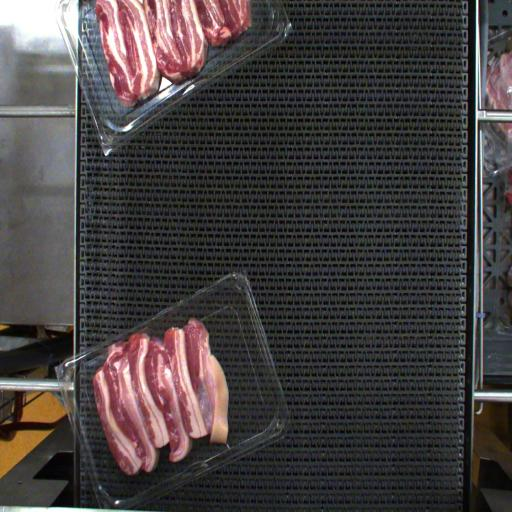twisted-meat: (180, 330, 232, 436)
